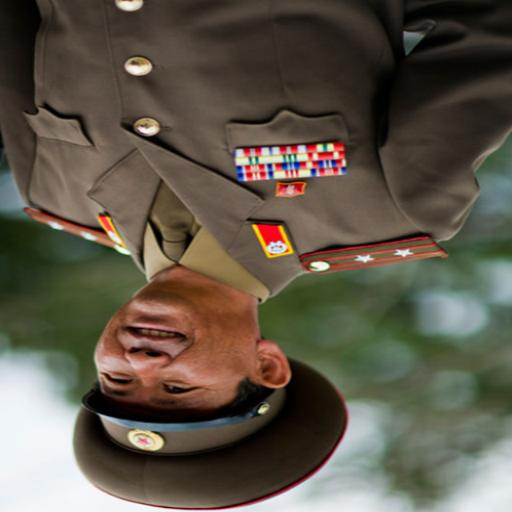north army: (37, 4, 439, 480)
